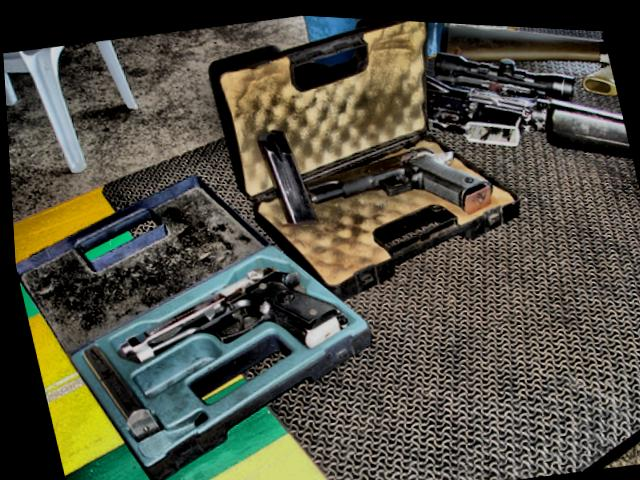pistol: (100, 240, 348, 377), (296, 125, 495, 234)
